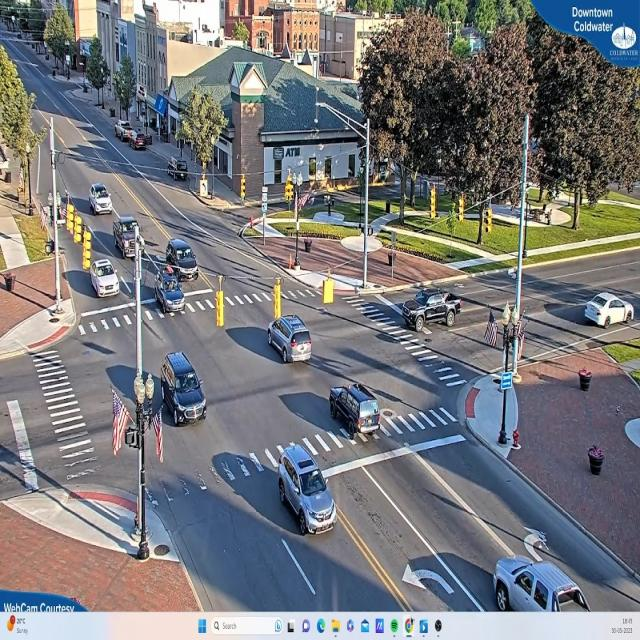car: (494, 557, 594, 612), (278, 445, 336, 536), (160, 353, 209, 426), (331, 382, 382, 439), (403, 293, 462, 333), (267, 314, 313, 363), (584, 290, 636, 328), (165, 239, 198, 281), (89, 259, 120, 297), (89, 183, 112, 213), (118, 122, 134, 142), (131, 134, 150, 150)
